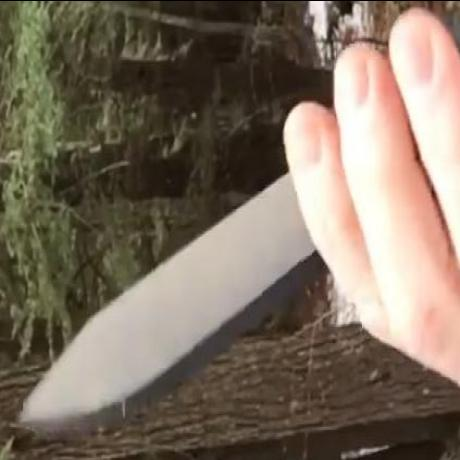weapon: (15, 172, 312, 436)
